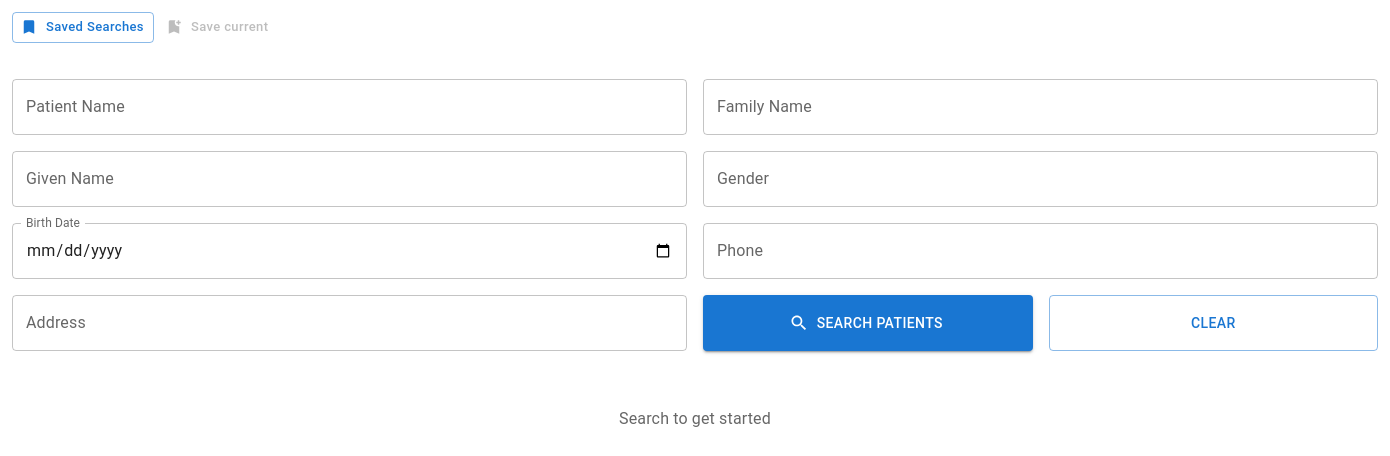
Scenario: PatientSearch › disables Search and Clear buttons while loading
This screenshot has width=1390, height=456.
Click the button "Search Patients" at (868, 323), box left=703, top=295, right=1032, bottom=351
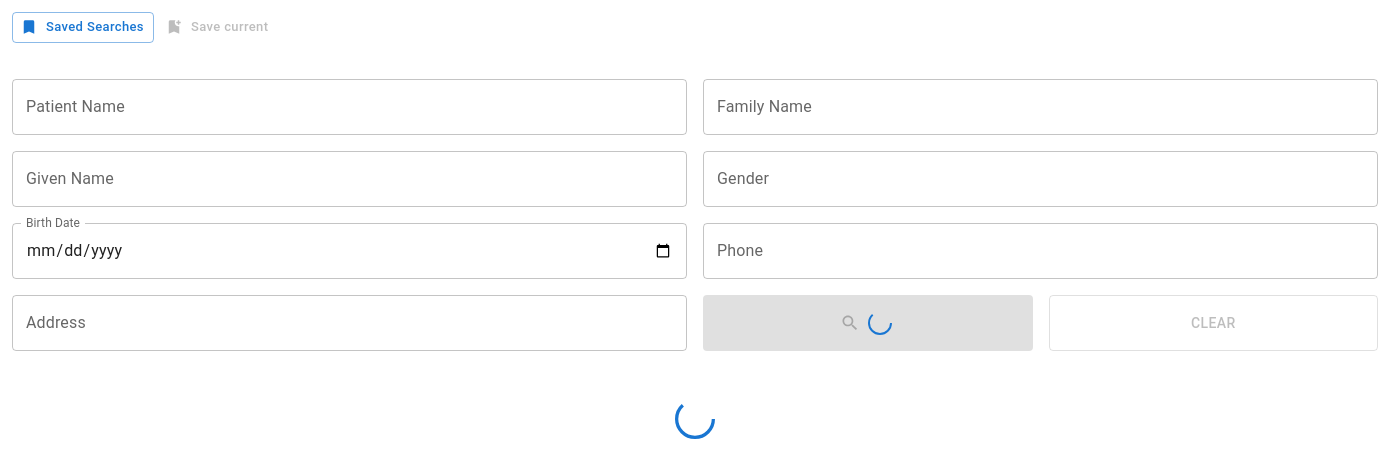
Expected: the button named "search patients" is disabled, left=703, top=295, right=1032, bottom=351
Expected: the button "Clear" is disabled, left=1048, top=295, right=1378, bottom=351
